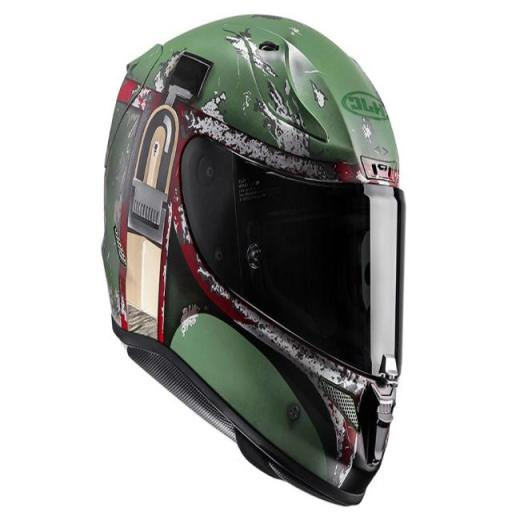Helmet: (103, 16, 404, 504)
